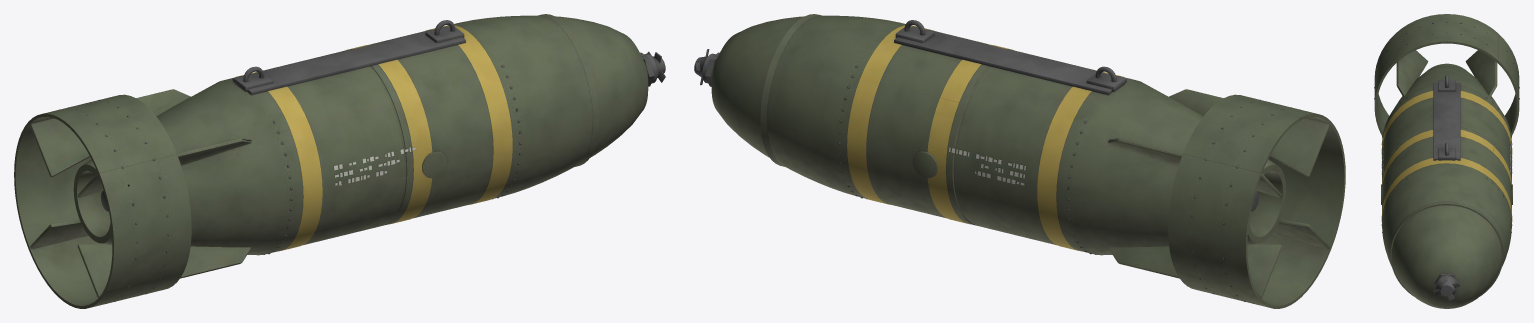
Rendered from bombs_5.glb.
3 views of the same model, side by side, from view 1: azimuth 30°, elevation 25°; view 2: azimuth 150°, elevation 25°; view 3: azimuth 270°, elevation 25° (orthographic). The views are drawn at different scales.
Parts seen in each view (by area): view 1: bombs_5; view 2: bombs_5; view 3: bombs_5.
Part boxes in pixels (left/top/right/bottom): bombs_5: left=14, top=14, right=665, bottom=308; bombs_5: left=694, top=14, right=1345, bottom=308; bombs_5: left=1374, top=14, right=1519, bottom=308.
Bounding box in the file's own units: 1 × 0.3027 × 0.2915.
Materials: 5 (5 with a texture image).
